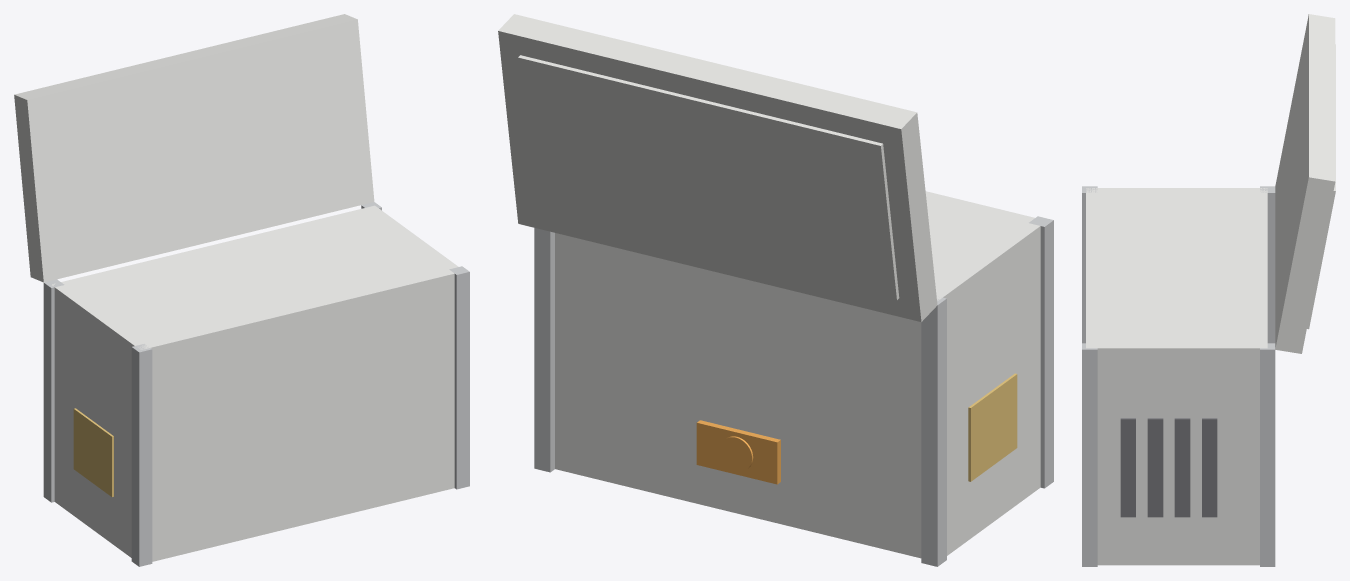
Rendered from rover26_battery_bay_s_lid_open.glb.
The picture shows the model from 3 angles, left to right: view 1: azimuth 30°, elevation 25°; view 2: azimuth 150°, elevation 25°; view 3: azimuth 270°, elevation 25°; orthographic projection. The views are drawn at different scales.
Visible parts, largest first — view 1: body, lid, frame, gold_label; view 2: body, lid, frame, port_connector, gold_label; view 3: body, lid, frame, vents.
Boxes of the visible parts, x1=… form: body: x1=52, y1=205, x2=458, y2=561; lid: x1=14, y1=14, x2=374, y2=282; frame: x1=43, y1=202, x2=469, y2=566; gold_label: x1=73, y1=408, x2=113, y2=496; body: x1=555, y1=191, x2=1040, y2=558; lid: x1=498, y1=14, x2=937, y2=322; frame: x1=534, y1=216, x2=1053, y2=566; port_connector: x1=696, y1=420, x2=780, y2=484; gold_label: x1=968, y1=373, x2=1017, y2=481; body: x1=1086, y1=188, x2=1267, y2=565; lid: x1=1275, y1=14, x2=1335, y2=353; frame: x1=1082, y1=186, x2=1275, y2=566; vents: x1=1120, y1=418, x2=1217, y2=517.
Size of the model in its own units: 1 by 1.11 by 0.6569.
